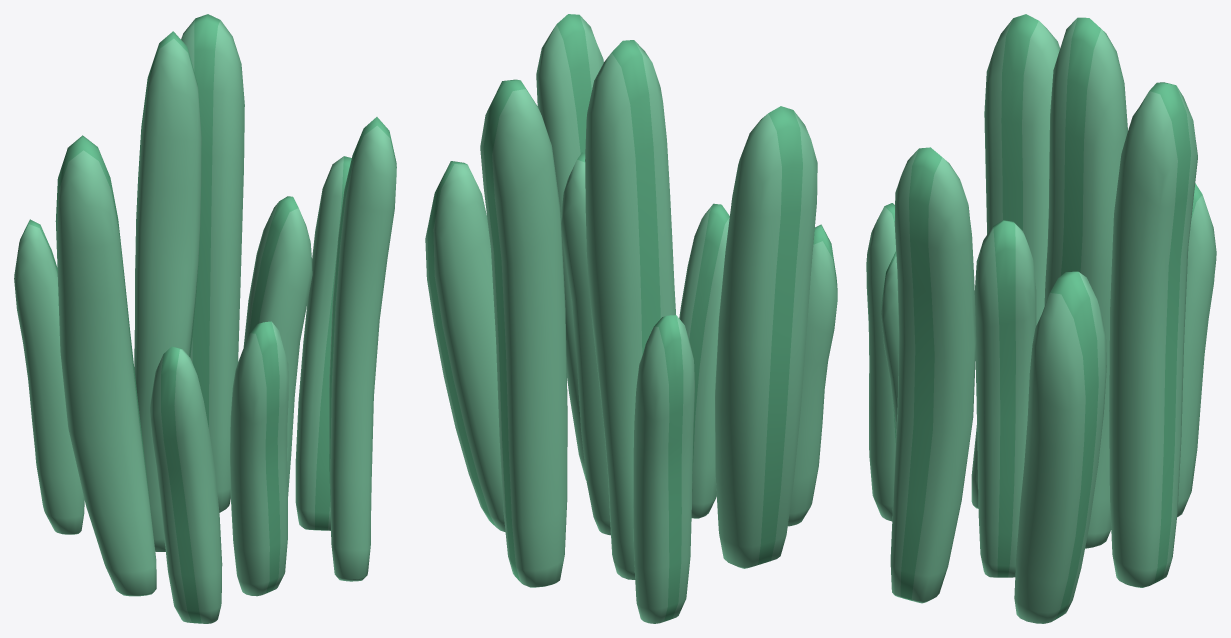
Rendered from Seaweed_A_02.fbx.
The picture shows the model from 3 angles, left to right: view 1: azimuth 30°, elevation 25°; view 2: azimuth 150°, elevation 25°; view 3: azimuth 270°, elevation 25°; orthographic projection. The views are drawn at different scales.
Visible parts, largest first — view 1: Seaweed_A_02_LOD0; view 2: Seaweed_A_02_LOD0; view 3: Seaweed_A_02_LOD0.
Boxes of the visible parts, left/top/right/bottom form: Seaweed_A_02_LOD0: left=14, top=14, right=396, bottom=623; Seaweed_A_02_LOD0: left=425, top=14, right=837, bottom=623; Seaweed_A_02_LOD0: left=866, top=14, right=1216, bottom=623.
Size of what is drawn, in the model's own units: 436 by 613 by 366.
